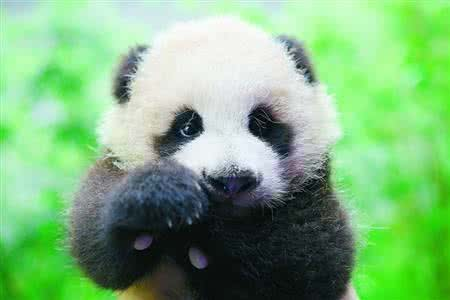panda: (65, 16, 352, 300)
